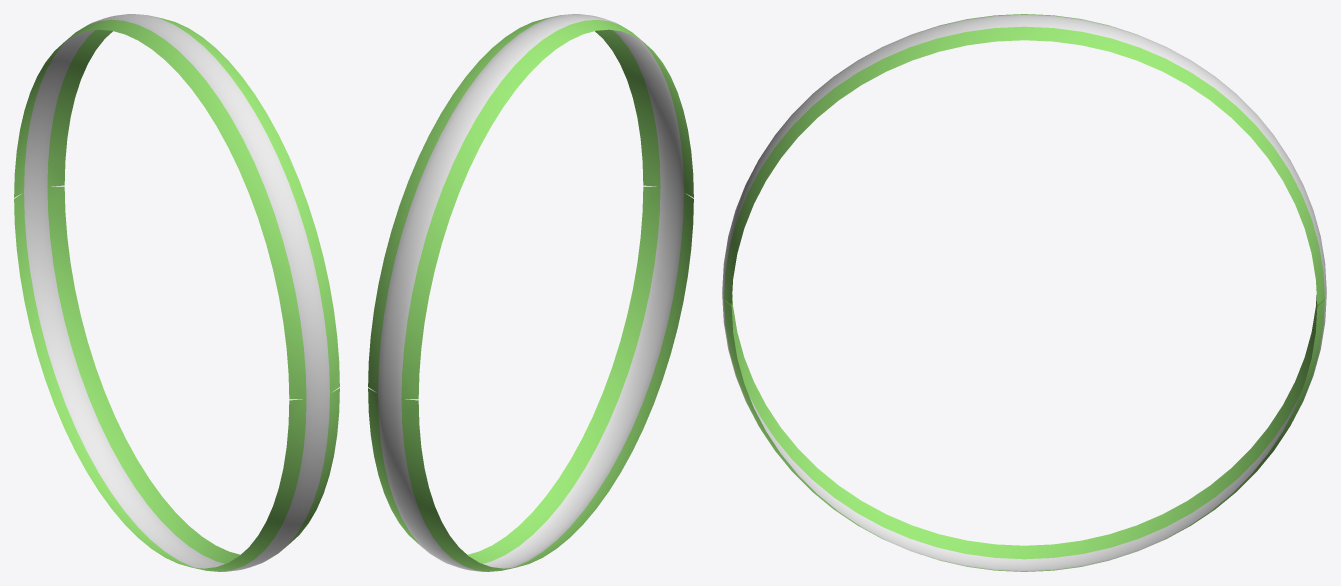
Rendered from Road.fbx.
3 renders of one model, left to right at view 1: azimuth 30°, elevation 25°; view 2: azimuth 150°, elevation 25°; view 3: azimuth 270°, elevation 25°, orthographic. The views are drawn at different scales.
Visible parts, largest first — view 1: Cylinder; view 2: Cylinder; view 3: Cylinder.
Part boxes in pixels (x1,y1,x2,y2): Cylinder: [14, 14, 339, 571]; Cylinder: [368, 14, 693, 571]; Cylinder: [722, 14, 1326, 571].
Bounding box in the file's own units: 20.35 × 198 × 198.
